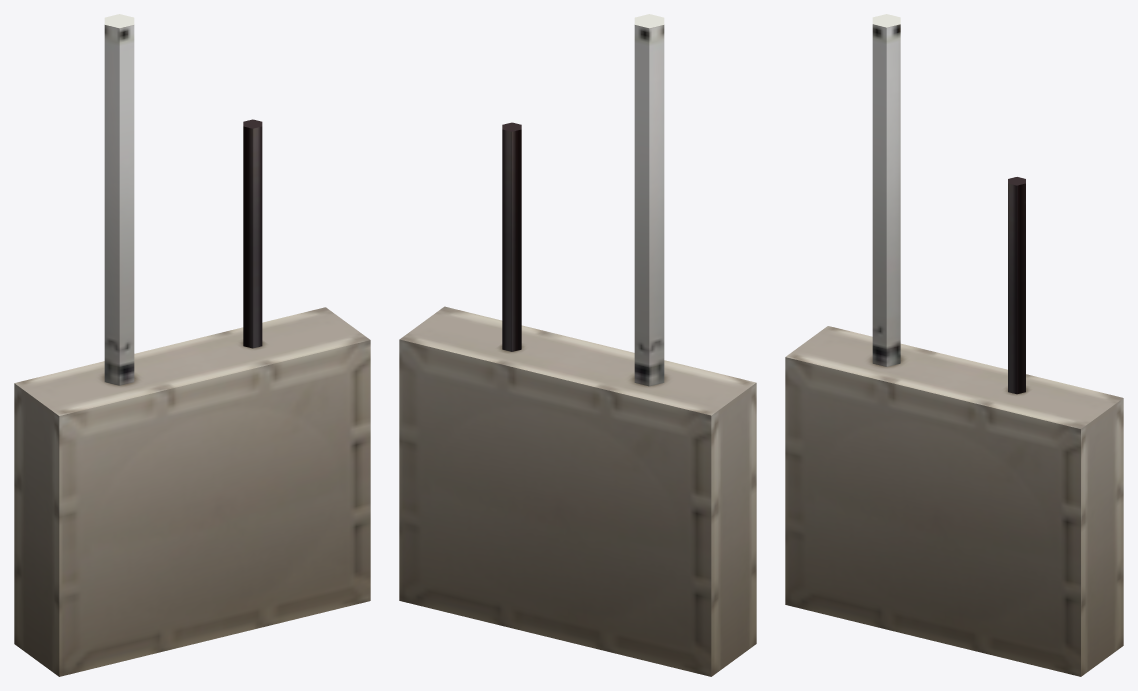
The model's file is 信号基站.obj.
3 renders of one model, left to right at view 1: azimuth 30°, elevation 25°; view 2: azimuth 150°, elevation 25°; view 3: azimuth 330°, elevation 25°, orthographic. The views are drawn at different scales.
Visible parts, largest first — view 1: ????; view 2: ????; view 3: ????.
Part boxes in pixels (x1,y1,x2,y2): ????: (14,14,370,676); ????: (399,14,756,676); ????: (785,14,1123,676).
Bounding box in the file's own units: 35.42 × 67.2 × 8.86.
